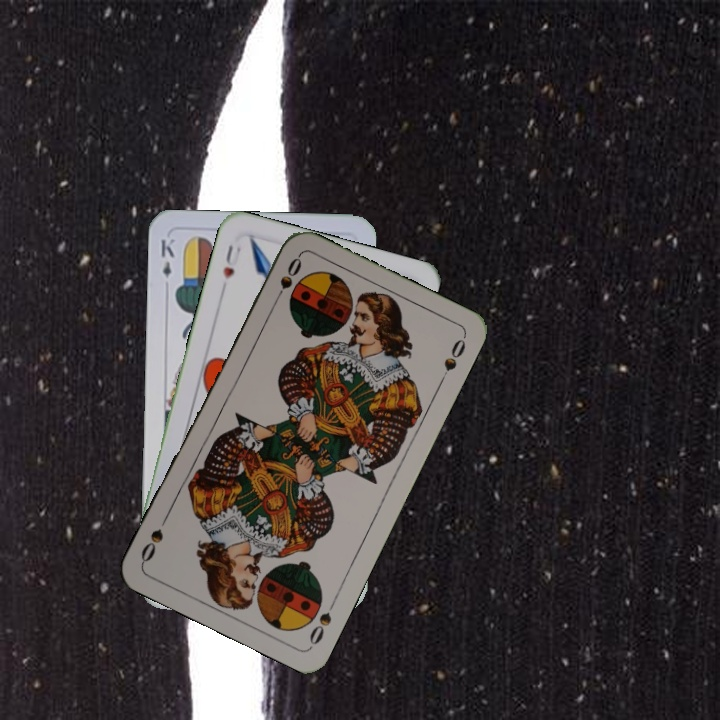EK: (157, 234, 177, 279)
HU: (219, 241, 244, 282)
SO: (269, 253, 305, 307), (305, 594, 340, 648)
